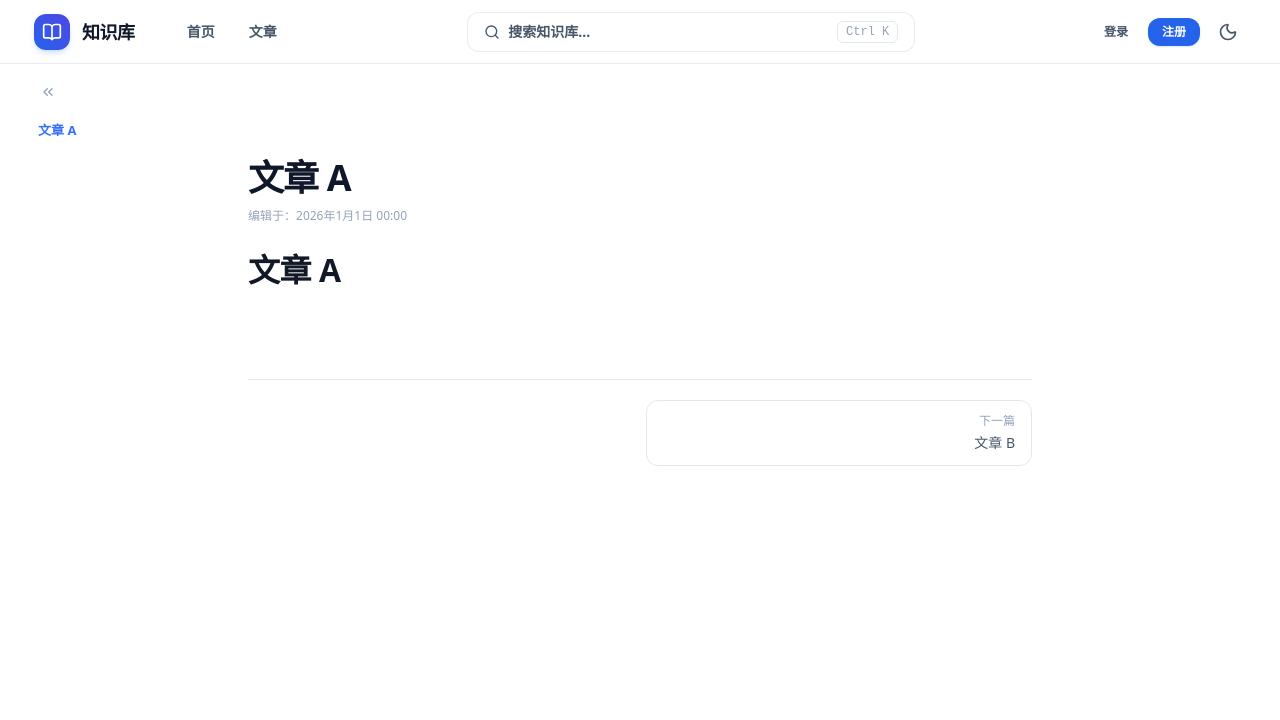
Test: public document routing › replaces retained public content with the locked state after ACL navigation
Expected: the 1st heading "文章 A" is shown, [248,153,351,202]
Click the link "下一篇 文章 B" at (997, 420), box [646,400,1032,466]
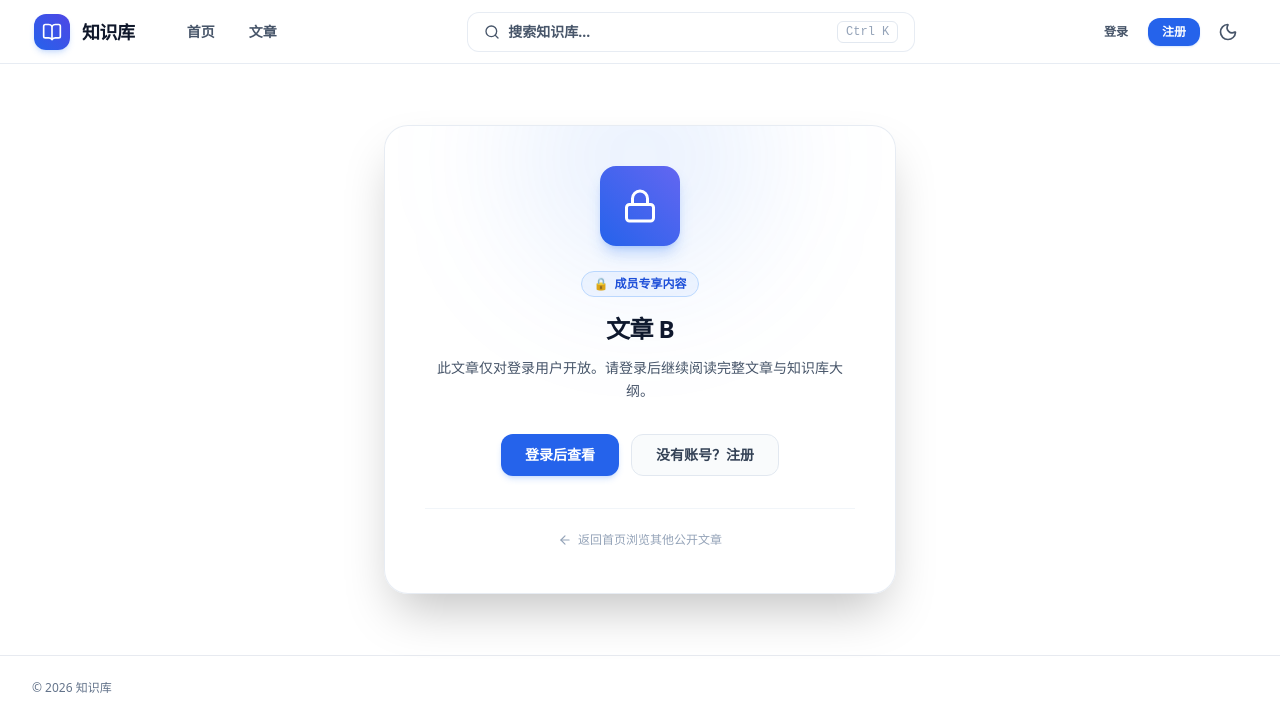
Now the element with test id "document-locked" is shown, box [384,125,896,594]
Now the link "文章 A" is gone
